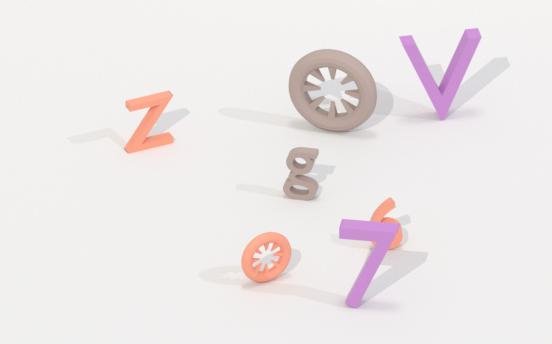6: (368, 194, 405, 254)
7: (336, 217, 400, 310)
g: (282, 144, 322, 209)
tron: (286, 43, 379, 134), (241, 229, 292, 285)
v: (394, 23, 484, 125)
z: (119, 88, 177, 152)
